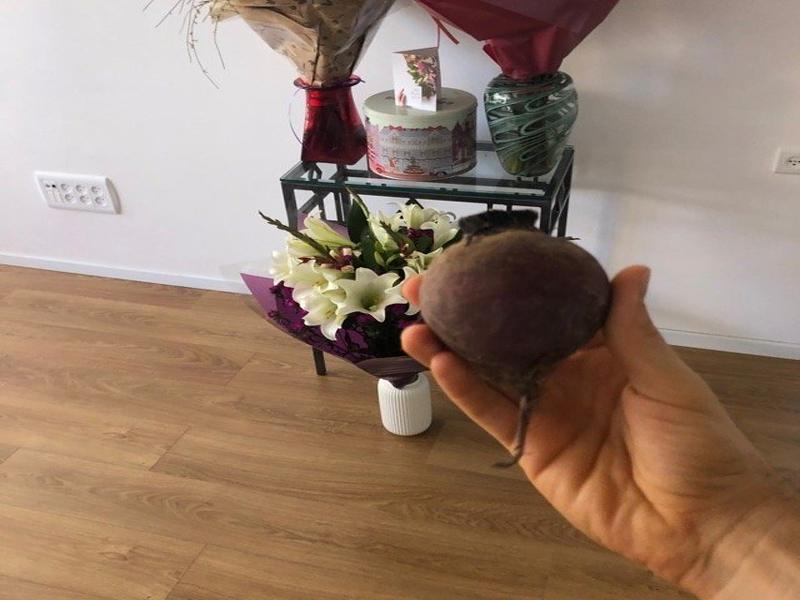Beet: (418, 209, 610, 467)
